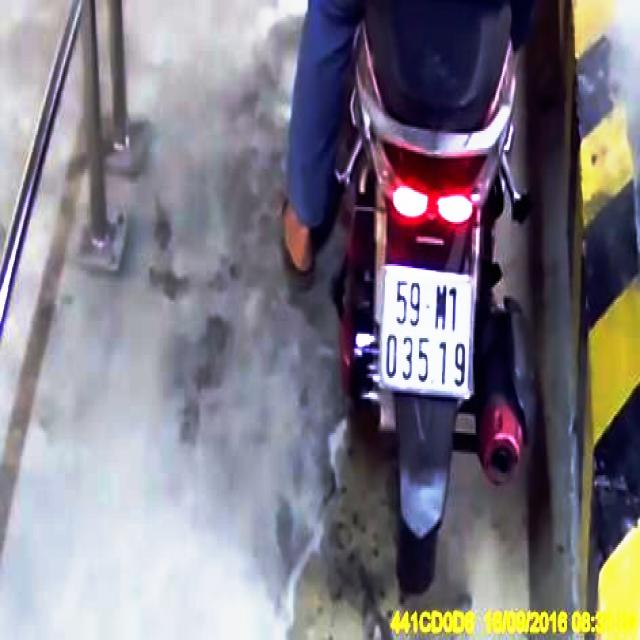license_plate: (381, 263, 476, 400)
